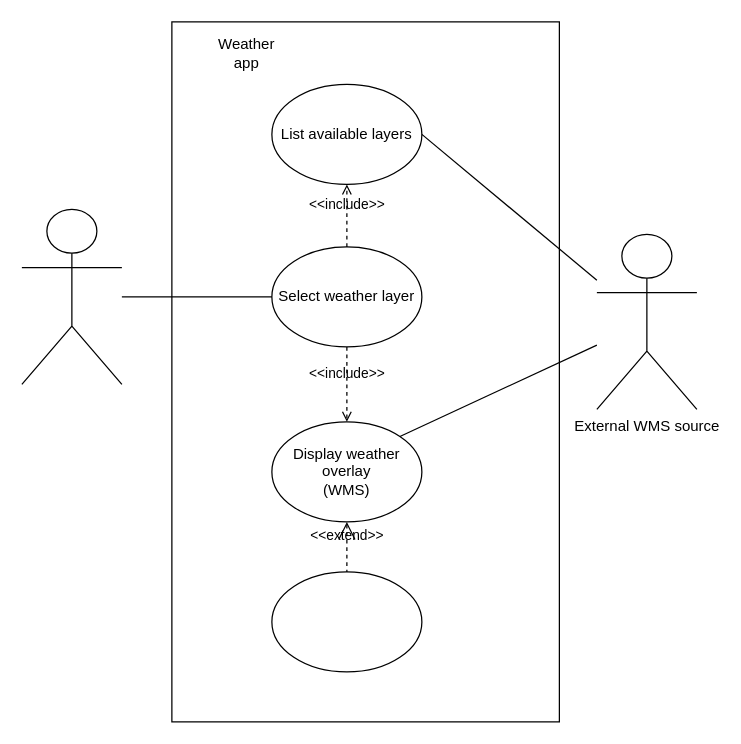
This 741x744 diagram has some shape labels left out. Each missing label, with the box of its shape:
Show tile error "Try again" card: (271, 571, 422, 672)
User: (21, 208, 122, 384)
